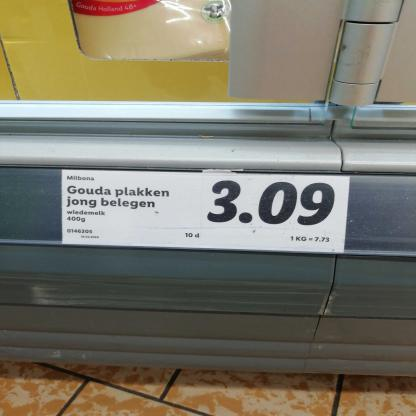prtg: (62, 171, 352, 254)
